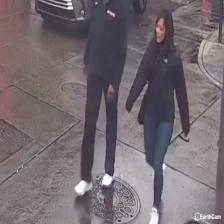person: (125, 9, 188, 221)
